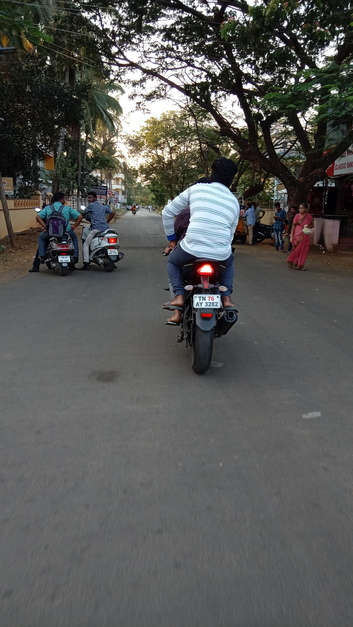bump: (120, 241, 279, 256)
